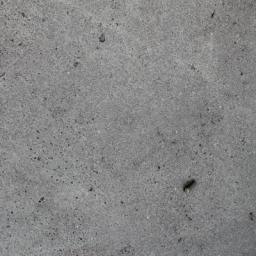FOD: (183, 176, 200, 198)
